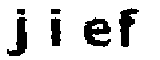e: (82, 15, 112, 52)
f: (117, 4, 141, 50)
i: (46, 6, 67, 51)
j: (4, 7, 31, 60)
